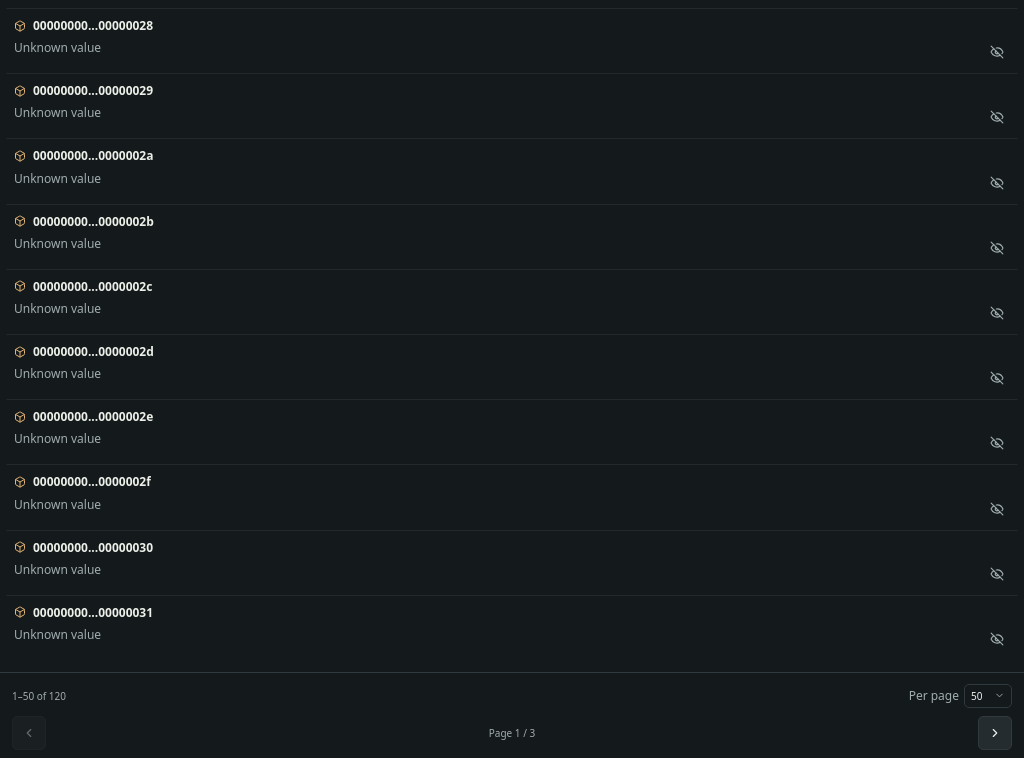
Scenario: EntityBrowser paging › returns to the first page when the filters change
(page scrolled)
Click the button named "Next entity page".
click(995, 733)  # box [978, 716, 1012, 750]
(page scrolled)
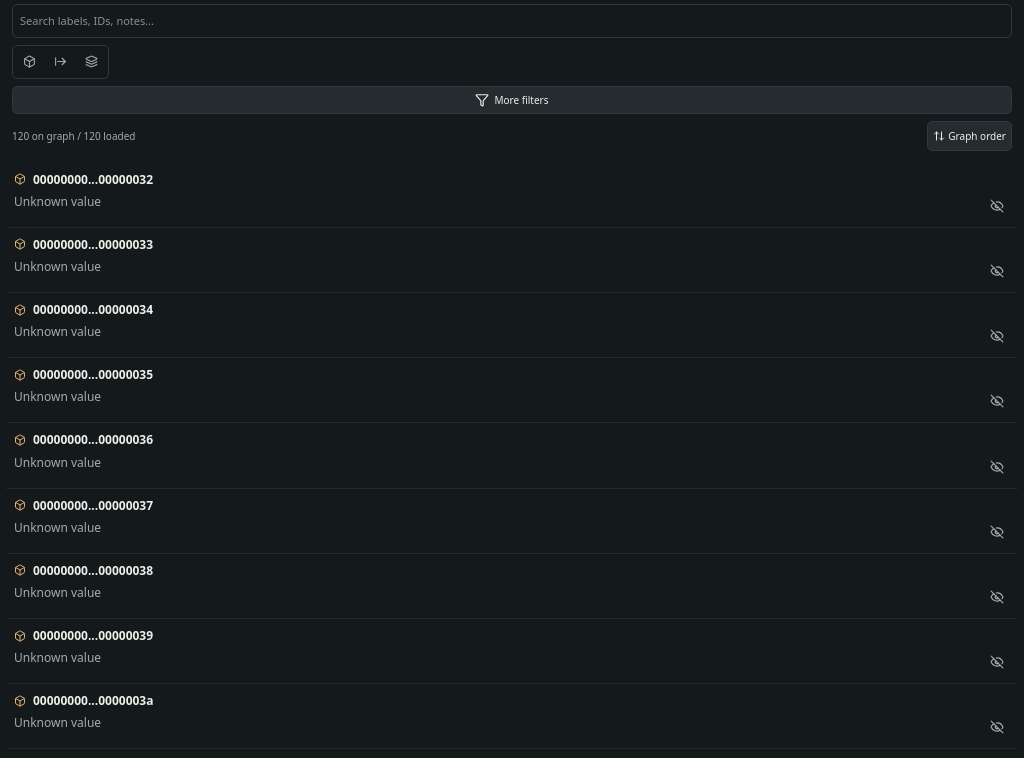
Type "tx 1" into the search field with placeholder "Search labels, IDs, notes…".
click(512, 21); type("tx 1")  # box [12, 4, 1012, 38]
(page scrolled)
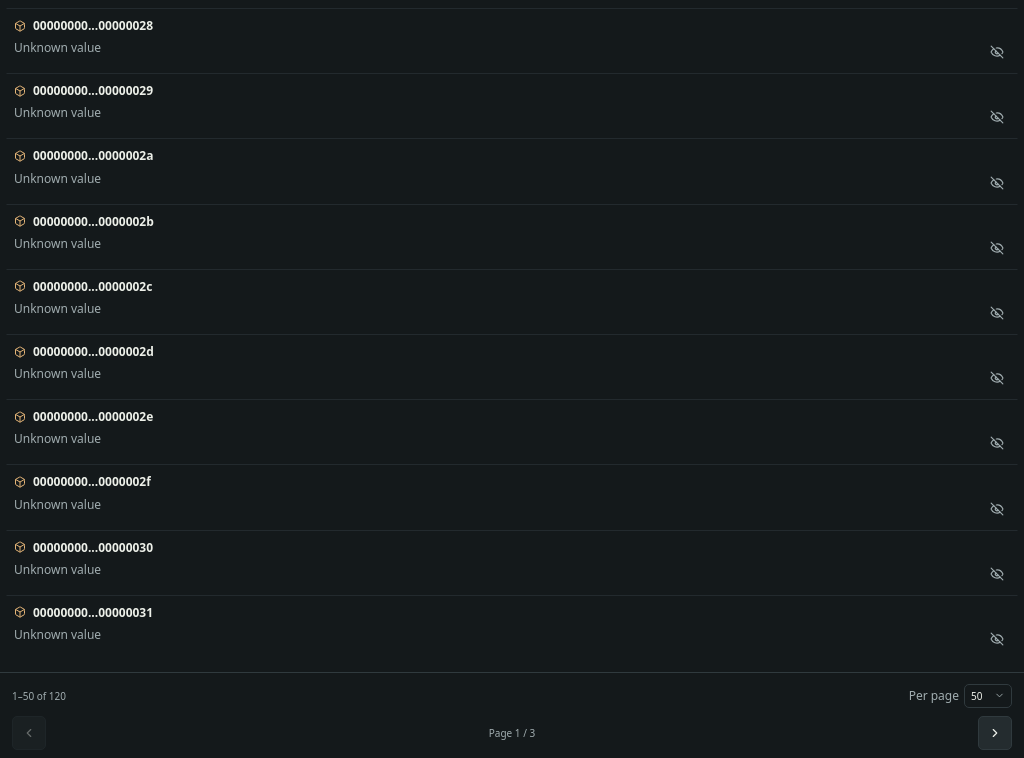
Result: the text "Page 1 / 3" is shown at [489, 725, 535, 741]
